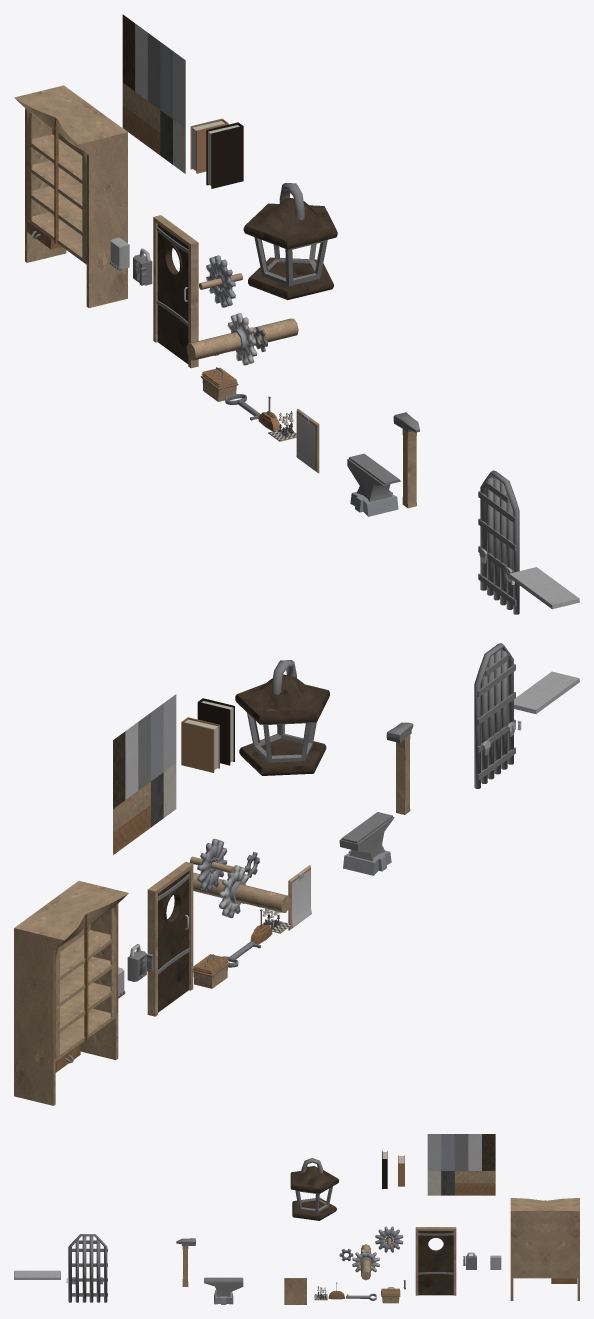
Rendered from Ship Stuff fully textured v1.fbx.
3 views of the same model, one above another, from view 1: azimuth 30°, elevation 25°; view 2: azimuth 150°, elevation 25°; view 3: azimuth 270°, elevation 25° (orthographic). The views are drawn at different scales.
Parts seen in each view (by area): view 1: Shelf.001, Plane, Cylinder.001, Door.002, JailDoor_Frame, Book_Tall.001, Anvil, Gear_Pipe_V2.001, Metal, Hammer, JailDoor_Bars_main, Book_Norm.001 (+3 smaller); view 2: Shelf.001, Plane, Cylinder.001, Door.002, JailDoor_Frame, Anvil, Book_Norm.001, Gear_Pipe_V2.001, Metal, Hammer, Book_Tall.001, JailDoor_Bars_main (+3 smaller); view 3: Shelf.001, Plane, Door.002, Cylinder.001, JailDoor_Frame, Anvil, Clipboard.001, Metal, Gear_Big_V1.001, Hammer, Gear_Big_V2.001, JailDoor_Bars_main (+1 smaller).
Boxes of the visible parts, x1,y1,x2,y2 form: Shelf.001: [14, 85, 127, 307]; Plane: [122, 14, 185, 173]; Cylinder.001: [243, 198, 337, 299]; Door.002: [153, 215, 198, 368]; JailDoor_Frame: [480, 470, 519, 614]; Book_Tall.001: [206, 122, 243, 188]; Anvil: [347, 453, 401, 516]; Gear_Pipe_V2.001: [186, 318, 298, 360]; Metal: [508, 567, 579, 609]; Hammer: [393, 412, 419, 508]; JailDoor_Bars_main: [478, 491, 516, 606]; Book_Norm.001: [190, 118, 228, 173]; Shelf.001: [14, 881, 128, 1105]; Plane: [113, 694, 176, 854]; Cylinder.001: [235, 674, 329, 775]; Door.002: [147, 862, 193, 1016]; JailDoor_Frame: [474, 643, 513, 788]; Anvil: [339, 812, 394, 875]; Book_Norm.001: [181, 717, 219, 772]; Gear_Pipe_V2.001: [193, 872, 290, 912]; Metal: [514, 671, 579, 713]; Hammer: [386, 722, 413, 814]; Book_Tall.001: [197, 698, 234, 765]; JailDoor_Bars_main: [477, 664, 515, 780]; Shelf.001: [510, 1198, 579, 1300]; Plane: [427, 1134, 495, 1195]; Door.002: [415, 1227, 456, 1295]; Cylinder.001: [290, 1166, 338, 1220]; JailDoor_Frame: [68, 1234, 107, 1302]; Anvil: [204, 1277, 243, 1304]; Clipboard.001: [284, 1278, 306, 1304]; Metal: [14, 1270, 60, 1279]; Gear_Big_V1.001: [375, 1226, 403, 1252]; Hammer: [176, 1238, 195, 1286]; Gear_Big_V2.001: [352, 1249, 379, 1272]; JailDoor_Bars_main: [72, 1248, 107, 1296].
Bounding box in the file's own units: 189 × 555 × 1668.
Materials: 1 (1 with a texture image).
